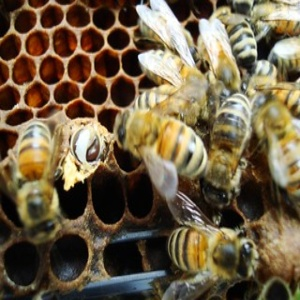bee: (118, 108, 202, 174), (20, 120, 58, 239), (167, 228, 257, 276), (256, 96, 300, 190), (203, 18, 238, 81), (275, 39, 300, 70)
